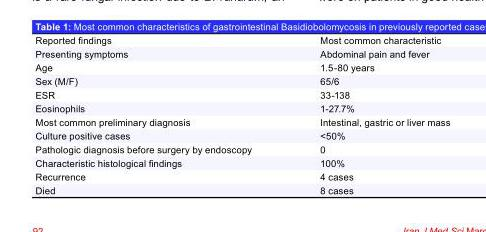table: (34, 34, 449, 195)
table column: (34, 34, 285, 195), (285, 34, 449, 195)
table column header: (34, 34, 449, 46)
table row: (34, 46, 449, 60), (34, 73, 449, 87), (34, 87, 449, 101), (34, 114, 449, 128), (34, 128, 449, 142), (34, 155, 449, 169), (34, 169, 449, 183), (34, 60, 449, 73), (34, 101, 449, 114), (34, 142, 449, 155), (34, 34, 449, 46), (34, 183, 449, 195)
